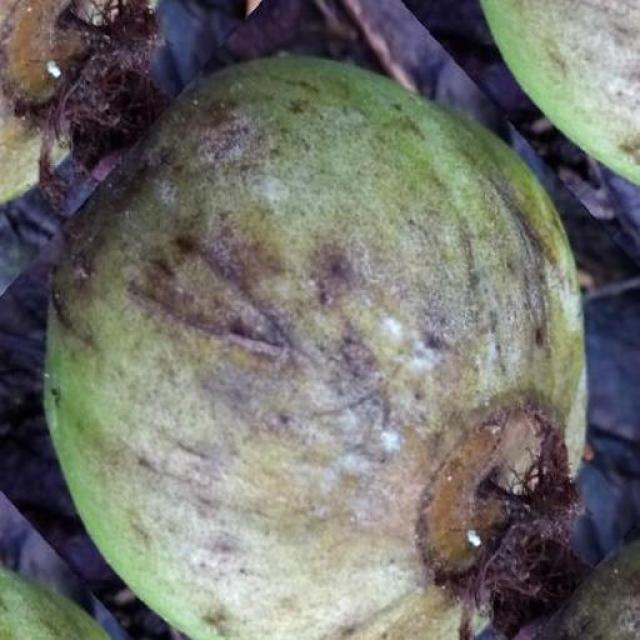Styler_Root: (46, 56, 584, 640)
